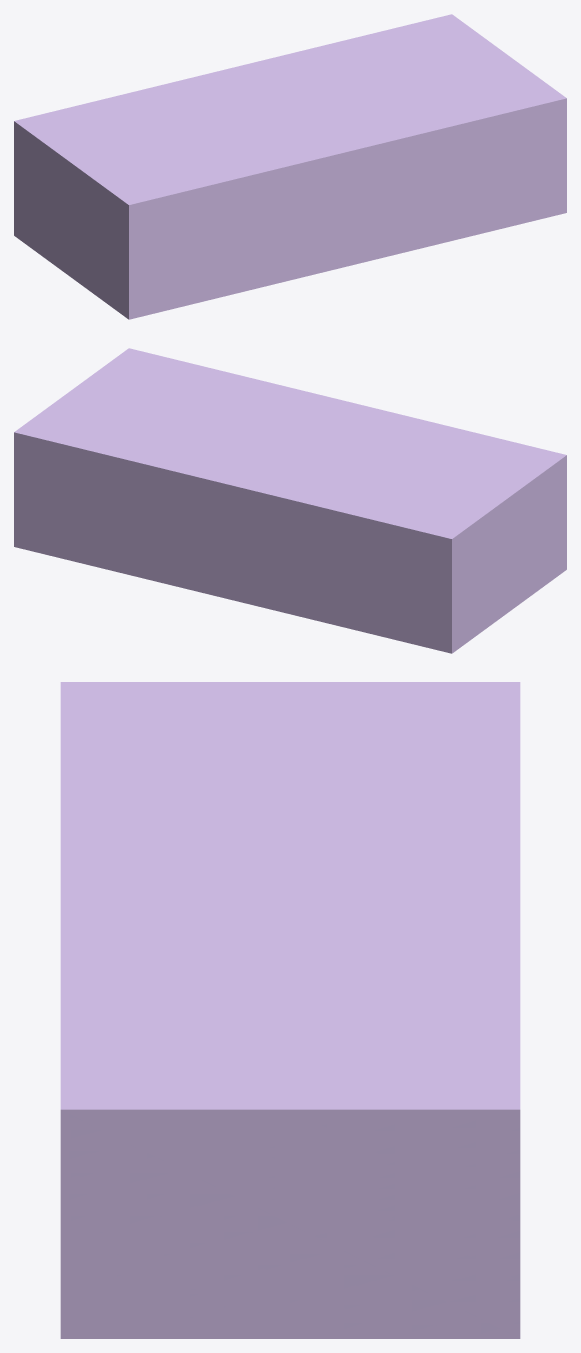
Rendered from vehicle-body.gltf.
The picture shows the model from 3 angles, top to bottom: view 1: azimuth 30°, elevation 25°; view 2: azimuth 150°, elevation 25°; view 3: azimuth 270°, elevation 25°; orthographic projection. The views are drawn at different scales.
Visible parts, largest first — view 1: VehicleBody; view 2: VehicleBody; view 3: VehicleBody.
Part boxes in pixels (x1=…): VehicleBody: x1=14, y1=14, x2=566, y2=319; VehicleBody: x1=14, y1=348, x2=566, y2=653; VehicleBody: x1=60, y1=682, x2=520, y2=1338.
Size of the model in its own units: 2.2 by 0.55 by 1.
